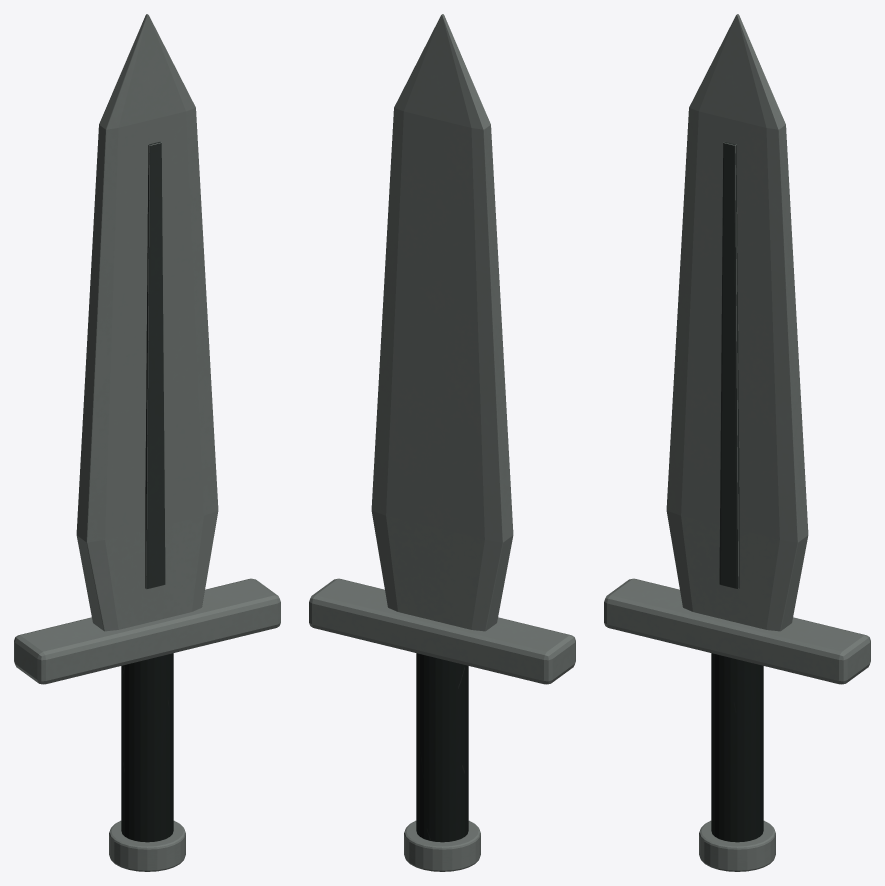
File: greatsword-t2.glb
The picture shows the model from 3 angles, left to right: view 1: azimuth 30°, elevation 25°; view 2: azimuth 150°, elevation 25°; view 3: azimuth 330°, elevation 25°; orthographic projection.
Parts seen in each view (by area): view 1: Forged blade, Crossguard, Wrapped handle, Central blade fuller, Weighted pommel; view 2: Forged blade, Crossguard, Wrapped handle, Weighted pommel; view 3: Forged blade, Crossguard, Wrapped handle, Central blade fuller, Weighted pommel.
Boxes of the visible parts, box(x1,y1,x2,y2) form: Forged blade: box(76, 14, 218, 631); Crossguard: box(14, 578, 280, 684); Wrapped handle: box(121, 653, 173, 842); Central blade fuller: box(145, 141, 165, 589); Weighted pommel: box(109, 820, 185, 871); Forged blade: box(371, 14, 513, 631); Crossguard: box(309, 578, 575, 684); Wrapped handle: box(416, 653, 468, 842); Weighted pommel: box(404, 820, 480, 871); Forged blade: box(666, 14, 808, 631); Crossguard: box(604, 578, 870, 684); Wrapped handle: box(711, 653, 763, 842); Central blade fuller: box(719, 141, 739, 589); Weighted pommel: box(699, 820, 775, 871).
Size of the model in its own units: 0.7 by 2.32 by 0.192.
Materials: 3 (3 with a texture image).
